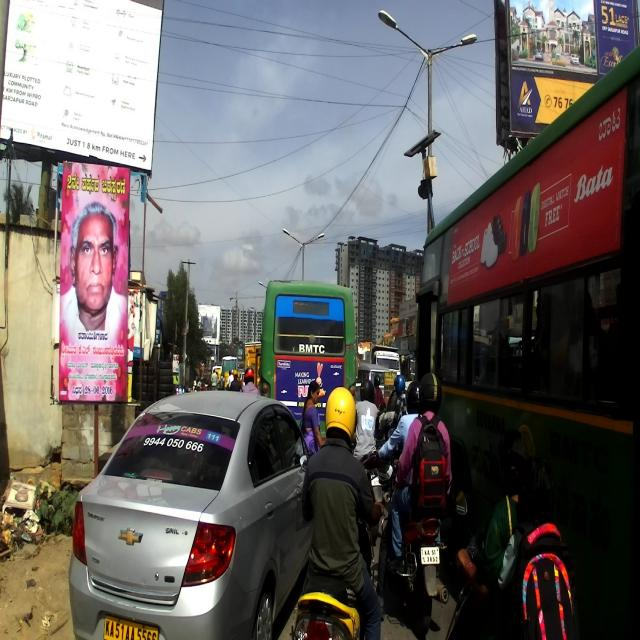bus: (407, 45, 639, 638), (259, 277, 357, 447)
motorcycle_Hero: (388, 456, 452, 639)
scooter: (66, 389, 316, 639), (289, 508, 368, 640)
